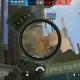Character: (3, 49, 9, 64)
